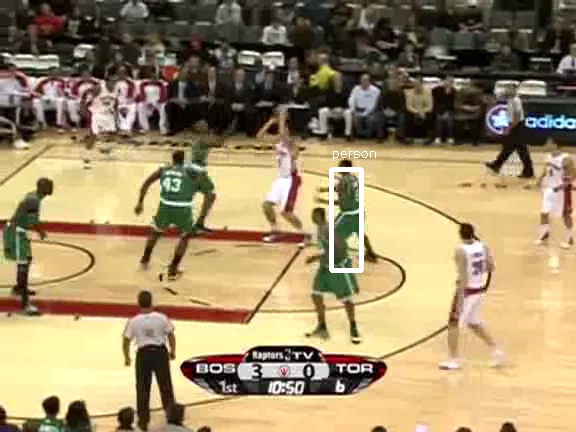person: (333, 166, 367, 247), (332, 166, 366, 247), (334, 166, 368, 247), (333, 165, 367, 246), (333, 167, 367, 248)
target_negative: (64, 100, 268, 181), (78, 336, 573, 363), (533, 177, 575, 348), (379, 270, 410, 346), (459, 30, 467, 236), (530, 100, 542, 205)
